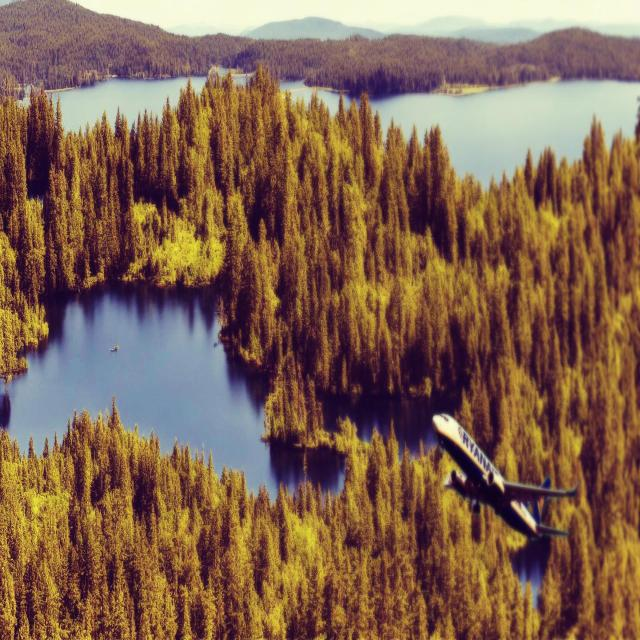airplane: (432, 411, 580, 541)
